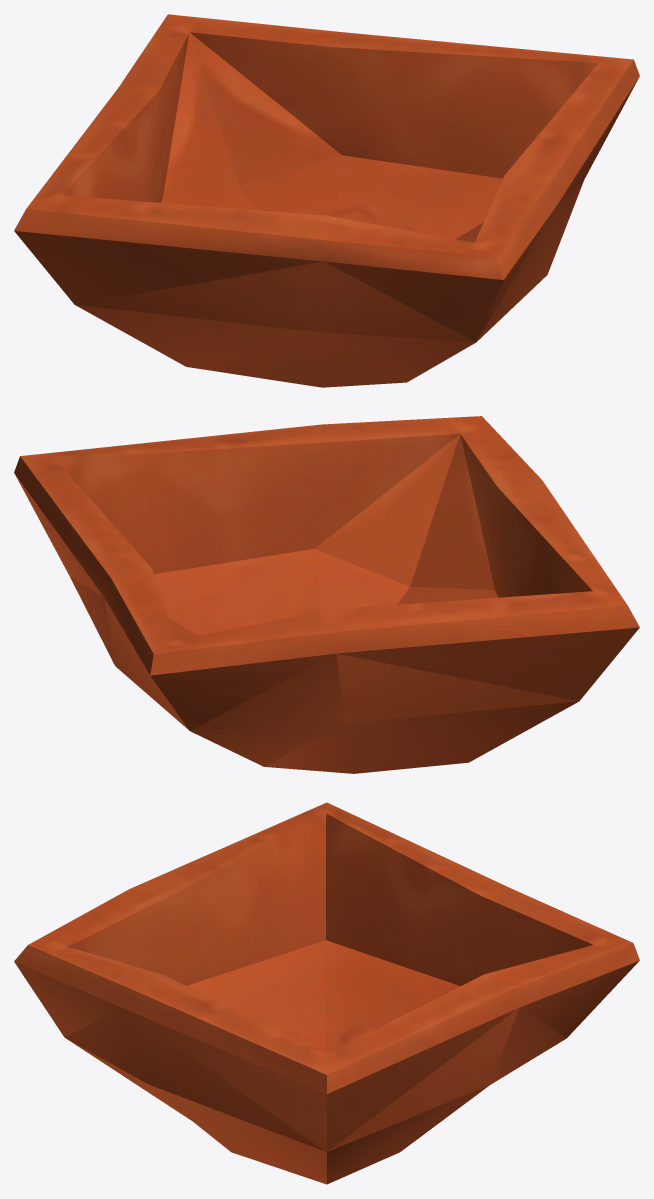
Rendered from diya_clay_06.glb.
The picture shows the model from 3 angles, top to bottom: view 1: azimuth 30°, elevation 25°; view 2: azimuth 150°, elevation 25°; view 3: azimuth 270°, elevation 25°; orthographic projection. The views are drawn at different scales.
Parts seen in each view (by area): view 1: diya_mesh; view 2: diya_mesh; view 3: diya_mesh.
Part boxes in pixels (x1=…): diya_mesh: x1=14, y1=14, x2=639, y2=387; diya_mesh: x1=14, y1=416, x2=639, y2=773; diya_mesh: x1=14, y1=802, x2=639, y2=1184.
Bounding box in the file's own units: 0.3028 × 0.0937 × 0.2842.
Materials: 1 (1 with a texture image).
